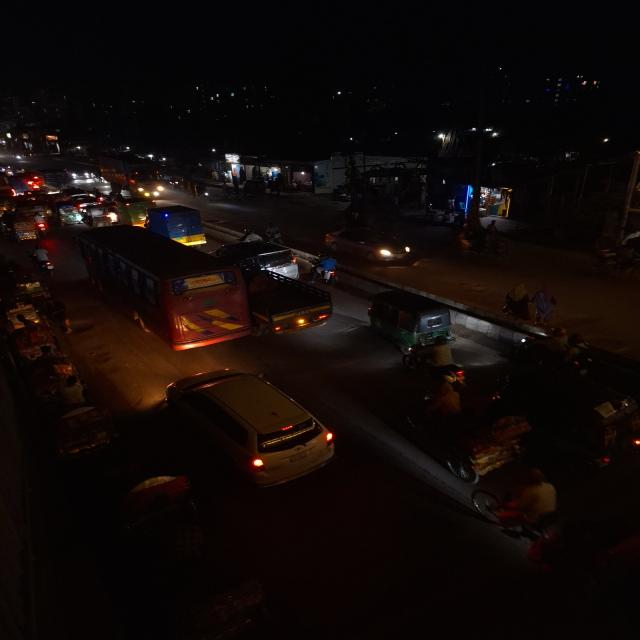bus: (75, 220, 252, 358), (89, 203, 109, 224)
car: (144, 364, 356, 496), (317, 221, 417, 269)
cng: (359, 287, 457, 355), (54, 200, 83, 226)
motorcycle: (462, 471, 567, 552), (510, 326, 591, 381), (32, 242, 62, 279), (35, 210, 51, 240)
pedestrian: (502, 282, 532, 322), (534, 285, 553, 325), (185, 178, 198, 198)
pickup_van: (256, 265, 336, 337)
rickshaw: (397, 379, 531, 478), (23, 372, 118, 470)
truck: (145, 199, 213, 248), (109, 156, 170, 205), (34, 168, 72, 194)
